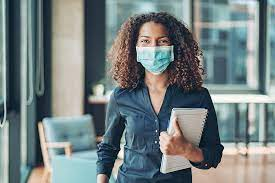FaceMask: (136, 47, 174, 75)
